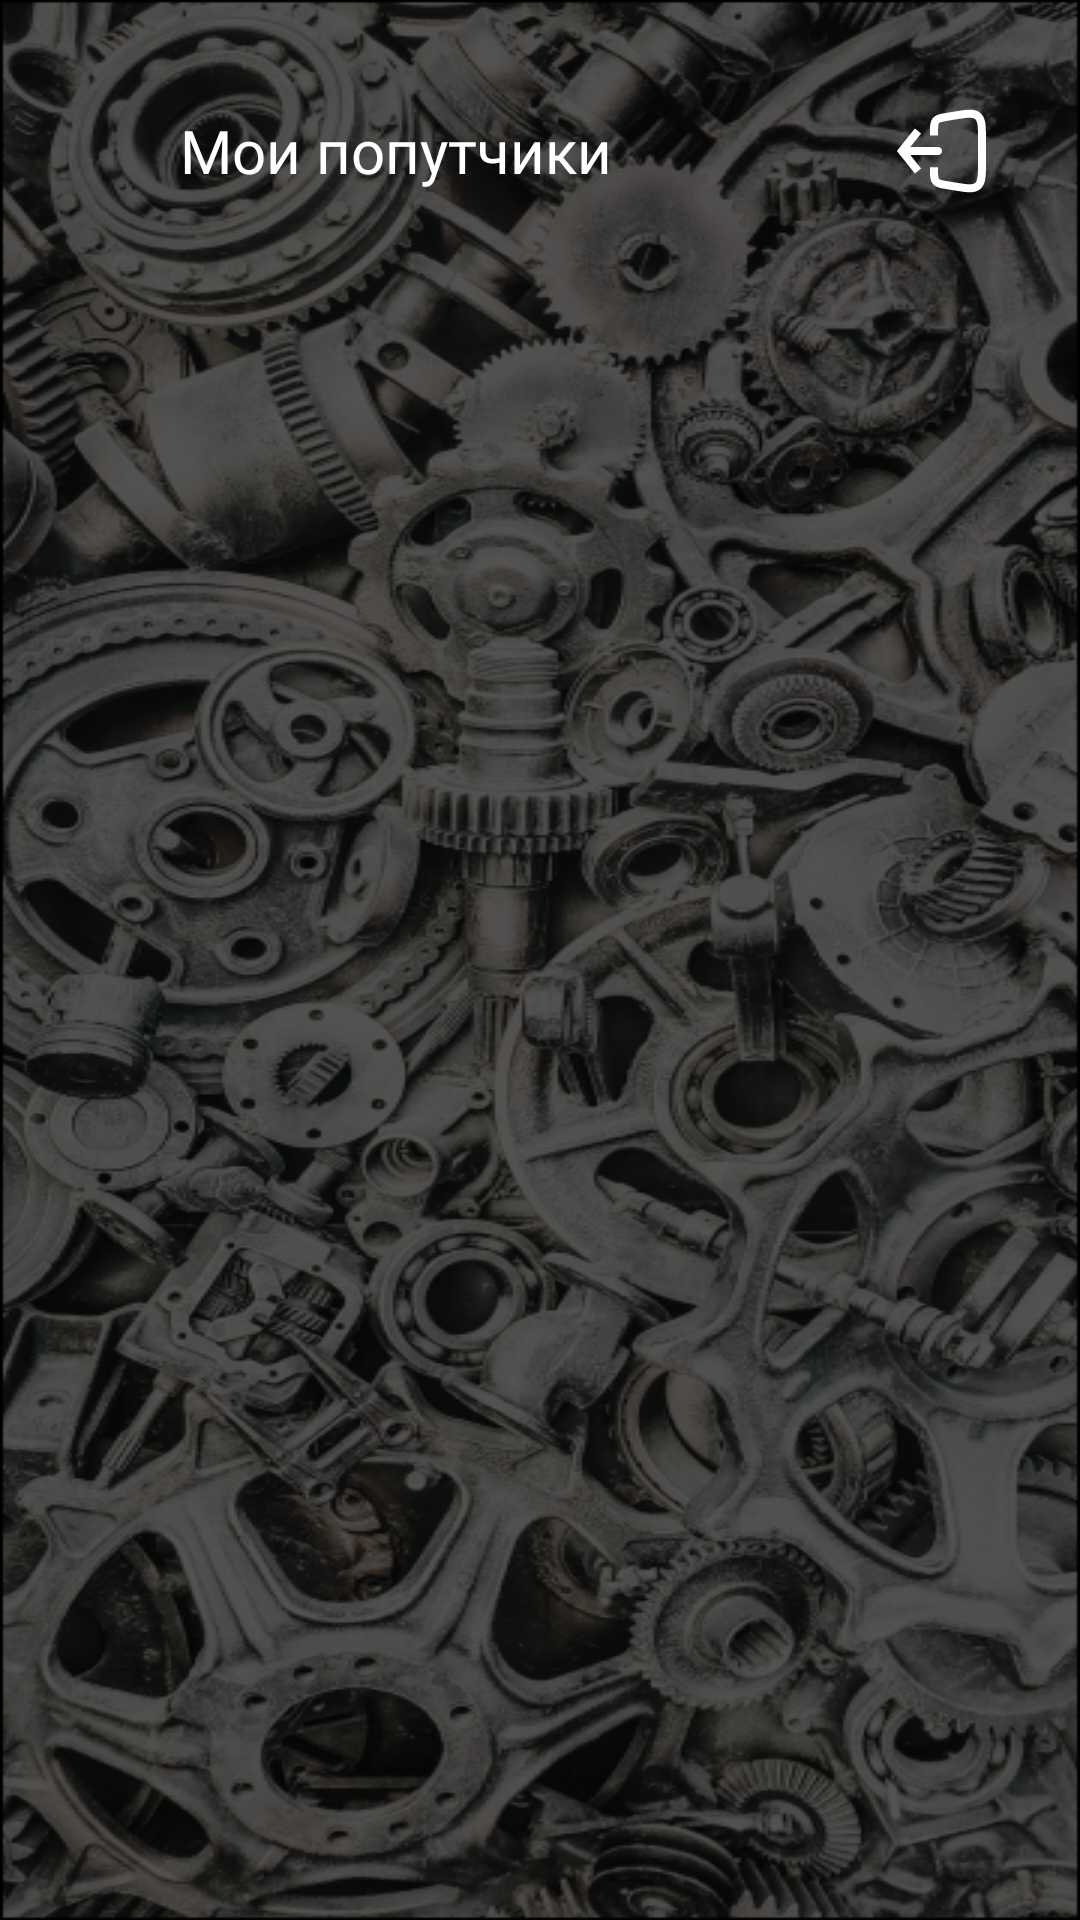

Where to tap for icons on this 1080 × 1920 app screen, as [x,y]:
exit: [942,151]
